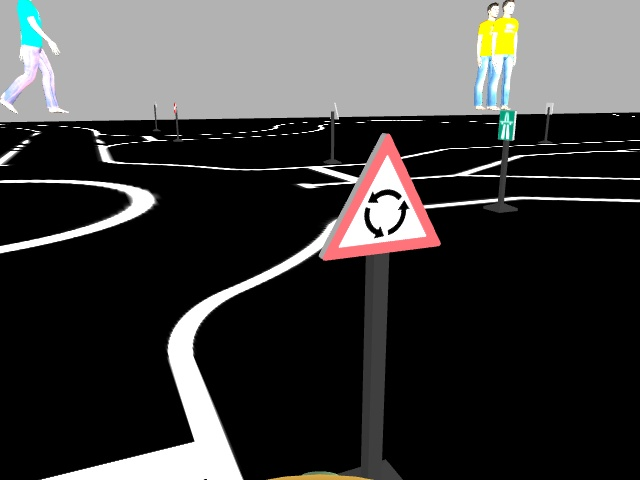HighwayEntrance: (495, 109, 518, 141)
Roundabout: (319, 130, 444, 261)
